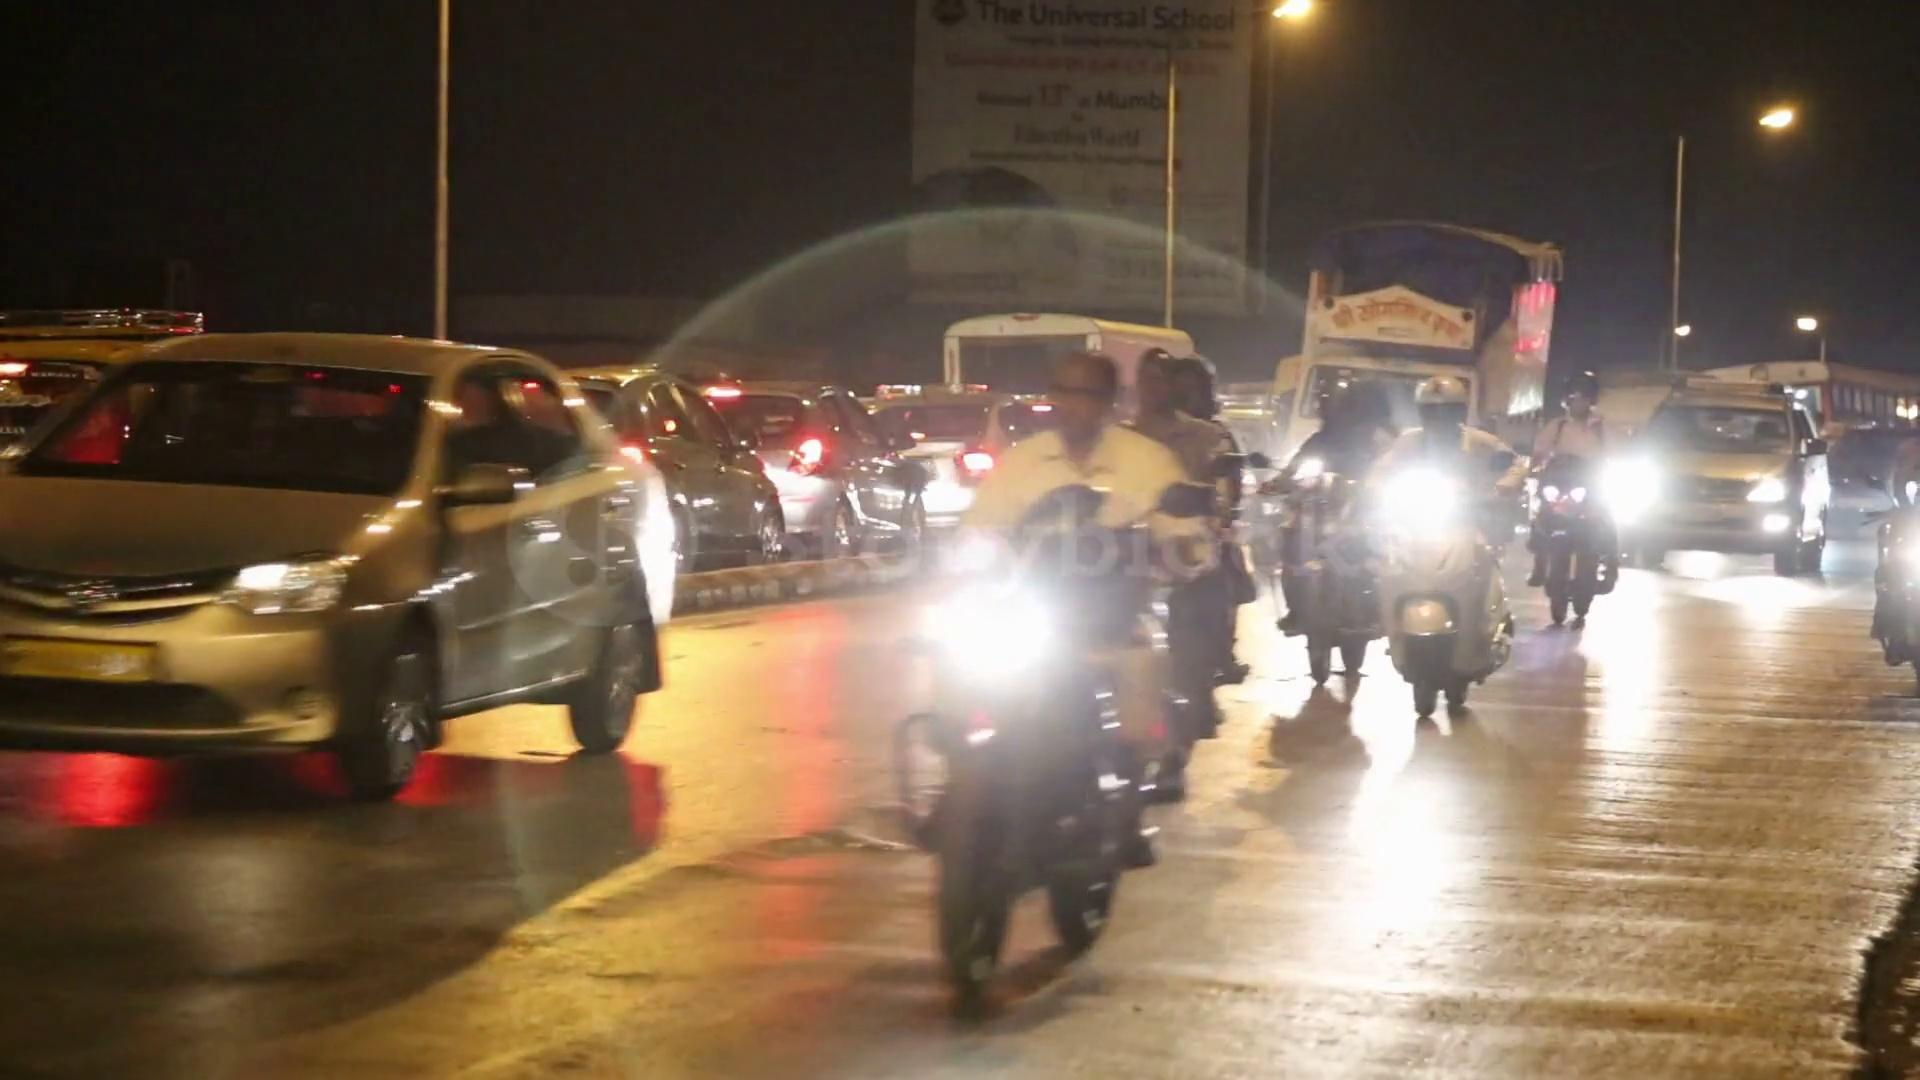rider: (903, 348, 1226, 1020), (1390, 369, 1503, 720), (1293, 351, 1389, 681), (1526, 371, 1617, 629), (1121, 334, 1253, 483)
with_helmate: (1421, 373, 1484, 444), (1557, 366, 1597, 411)
without_helmate: (1037, 363, 1113, 440)
